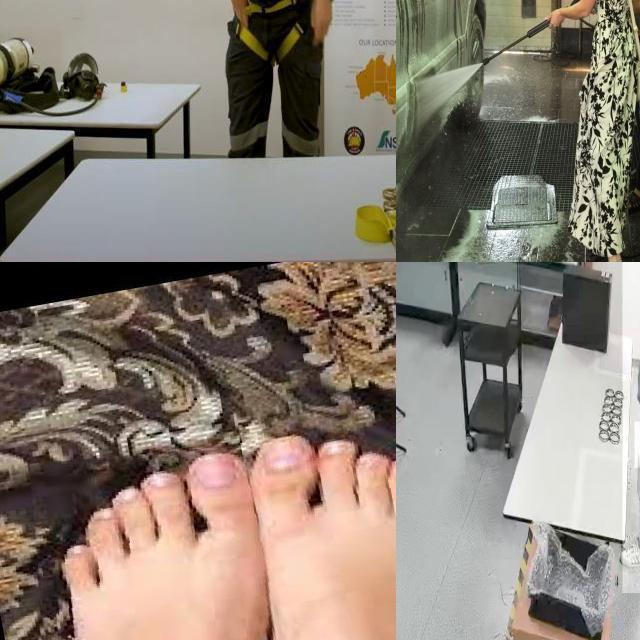Barefoots: (55, 449, 263, 640), (249, 418, 396, 640)
Harness: (225, 0, 318, 67)
hand_glove: (634, 421, 640, 468)
person: (622, 262, 640, 594)
shoes: (617, 543, 640, 571)
